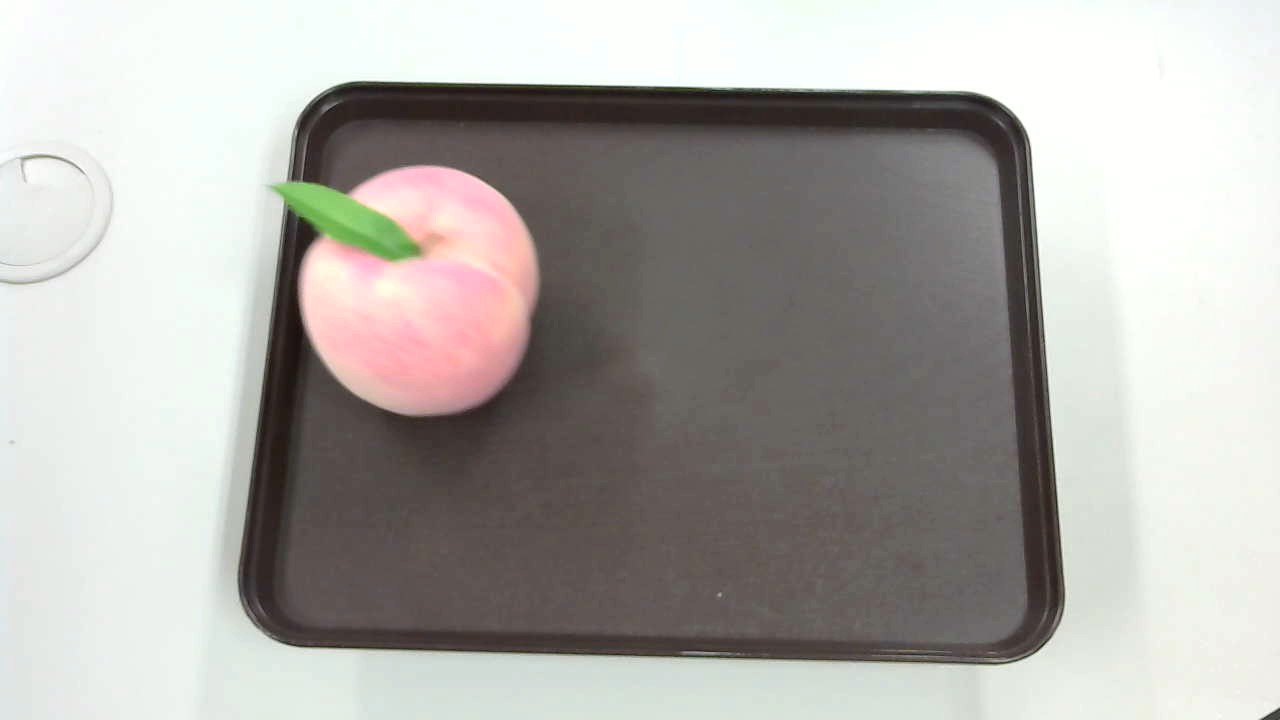peach: (256, 164, 554, 424)
